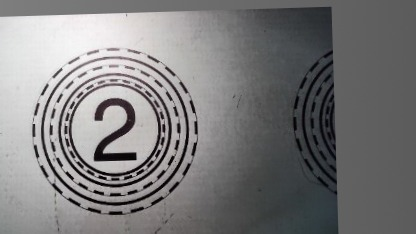2r: (29, 46, 200, 218)
